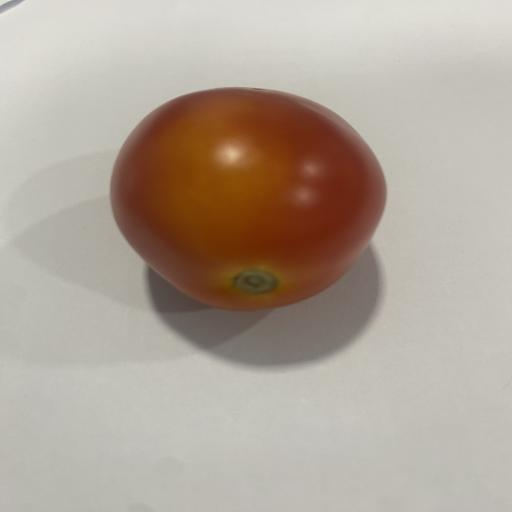ripe: (111, 87, 386, 310)
